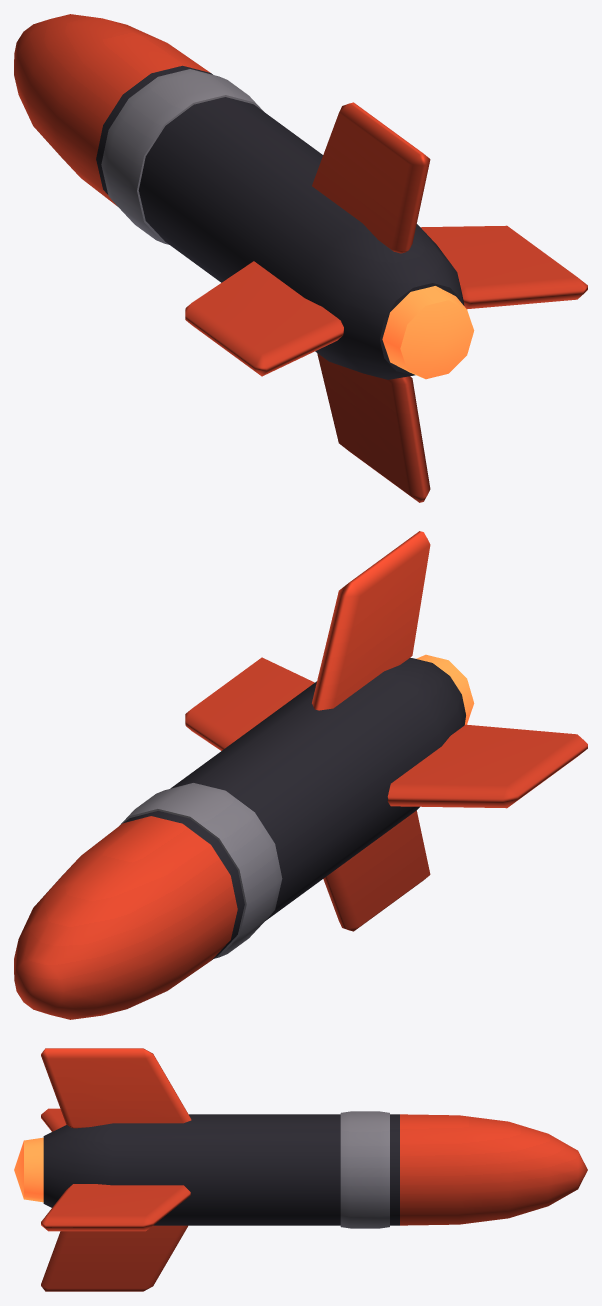
File: missile-enemy.glb
3 renders of one model, top to bottom at view 1: azimuth 30°, elevation 25°; view 2: azimuth 150°, elevation 25°; view 3: azimuth 270°, elevation 25°, orthographic. The views are drawn at different scales.
Visible parts, largest first — view 1: missile-enemy Ember paint, missile-enemy Ashen charcoal, missile-enemy Ash grey, missile-enemy Ember glow; view 2: missile-enemy Ember paint, missile-enemy Ashen charcoal, missile-enemy Ash grey, missile-enemy Ember glow; view 3: missile-enemy Ember paint, missile-enemy Ashen charcoal, missile-enemy Ash grey, missile-enemy Ember glow.
Part boxes in pixels (x1,y1,x2,y2): missile-enemy Ember paint: (14, 14, 587, 502); missile-enemy Ashen charcoal: (96, 65, 464, 379); missile-enemy Ash grey: (101, 69, 263, 244); missile-enemy Ember glow: (382, 286, 474, 379); missile-enemy Ember paint: (14, 531, 587, 1019); missile-enemy Ashen charcoal: (123, 657, 465, 960); missile-enemy Ash grey: (119, 783, 282, 958); missile-enemy Ember glow: (416, 654, 474, 724); missile-enemy Ember paint: (41, 1048, 587, 1291); missile-enemy Ashen charcoal: (43, 1114, 399, 1225); missile-enemy Ash grey: (340, 1111, 389, 1228); missile-enemy Ember glow: (14, 1137, 43, 1202).
Size of the model in its own units: 0.54 by 0.54 by 1.16.
Materials: 4 (3 with a texture image).
